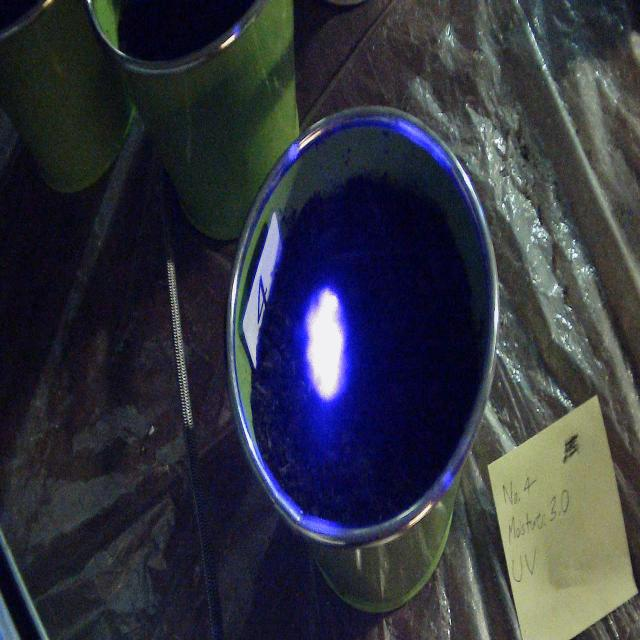soil-moisture-3.0: (301, 287, 349, 403)
